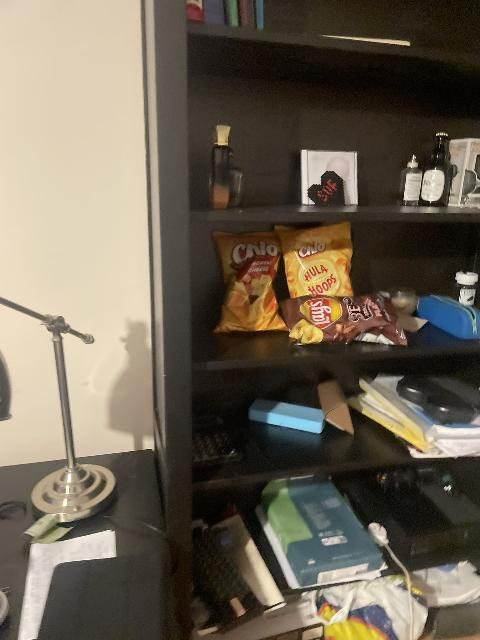Chio Cascaval 125g: (209, 230, 287, 335)
Chio Hula Hoops Cheese 70g: (276, 222, 354, 304)
Lays Beef Grilled Ribs 125g: (279, 291, 408, 346)
